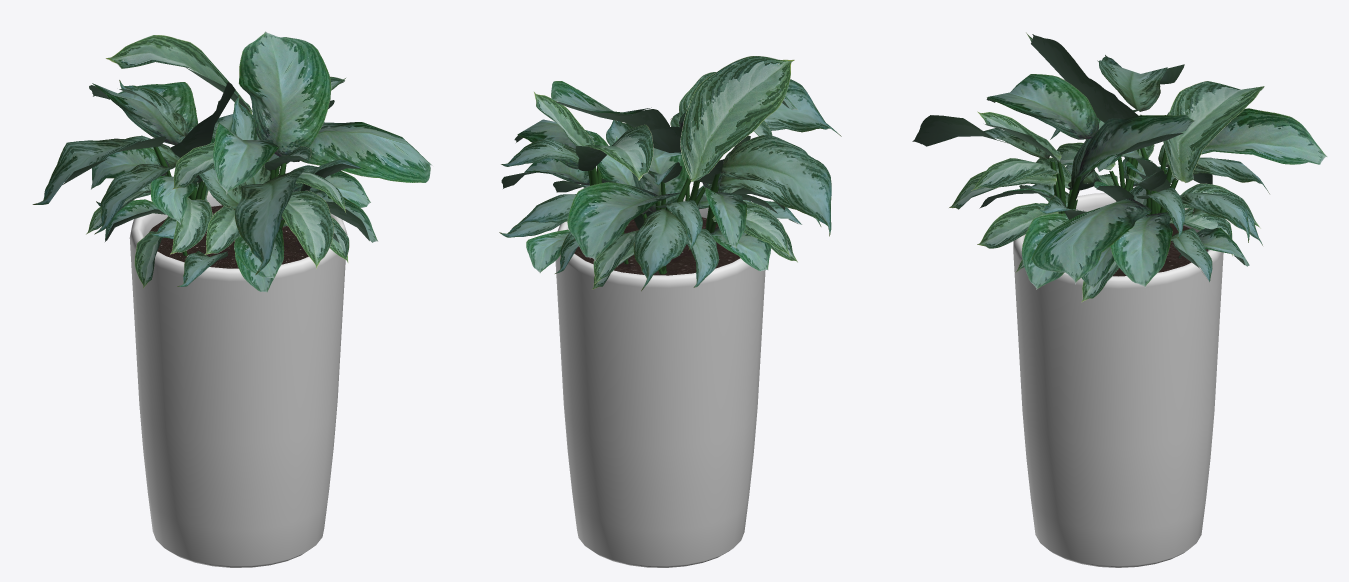
3 renders of one model, left to right at view 1: azimuth 30°, elevation 25°; view 2: azimuth 150°, elevation 25°; view 3: azimuth 270°, elevation 25°, orthographic. The views are drawn at different scales.
Visible parts, largest first — view 1: potTall_aglaonema; view 2: potTall_aglaonema; view 3: potTall_aglaonema.
Part boxes in pixels (x1=…): potTall_aglaonema: x1=32, y1=31, x2=432, y2=567; potTall_aglaonema: x1=499, y1=56, x2=841, y2=567; potTall_aglaonema: x1=912, y1=32, x2=1327, y2=567.
Size of the model in its own units: 1.25 by 1.61 by 1.3.
3 materials, 2 textured.
